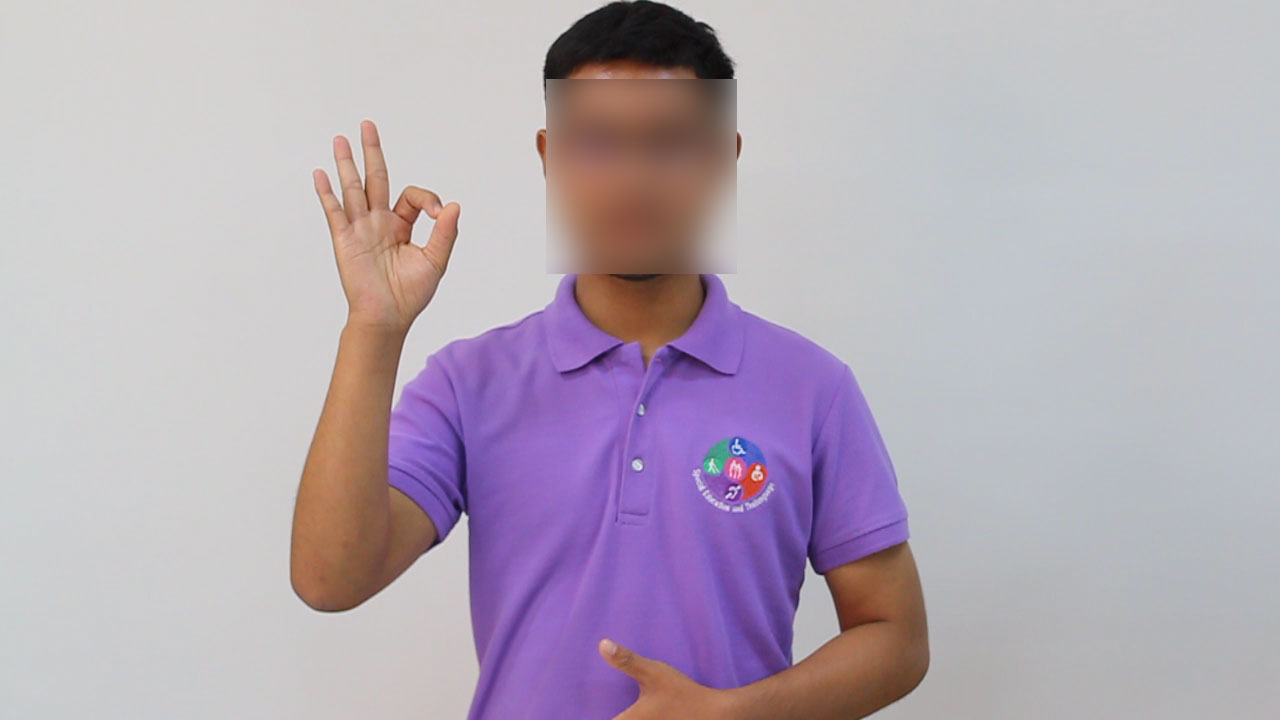for: (299, 108, 468, 355)
